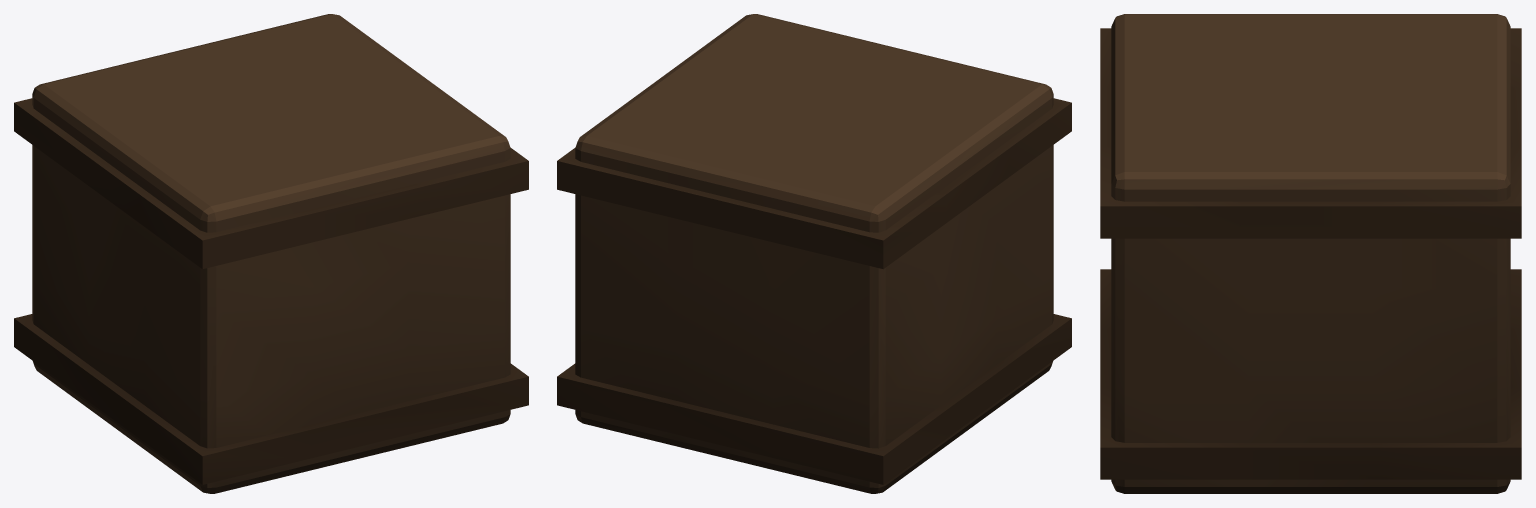
Rendered from crate.glb.
3 renders of one model, left to right at view 1: azimuth 30°, elevation 25°; view 2: azimuth 150°, elevation 25°; view 3: azimuth 270°, elevation 25°, orthographic. The views are drawn at different scales.
Parts seen in each view (by area): view 1: crate; view 2: crate; view 3: crate.
Boxes of the visible parts, bbox=[...] form: crate: bbox=[14, 14, 528, 493]; crate: bbox=[557, 14, 1071, 493]; crate: bbox=[1100, 14, 1521, 493].
Bounding box in the file's own units: 0.95 × 0.8 × 0.95.
